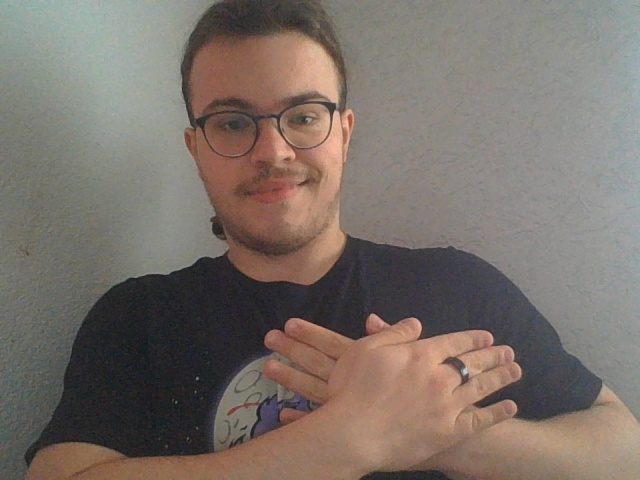Love: (258, 307, 525, 480)
